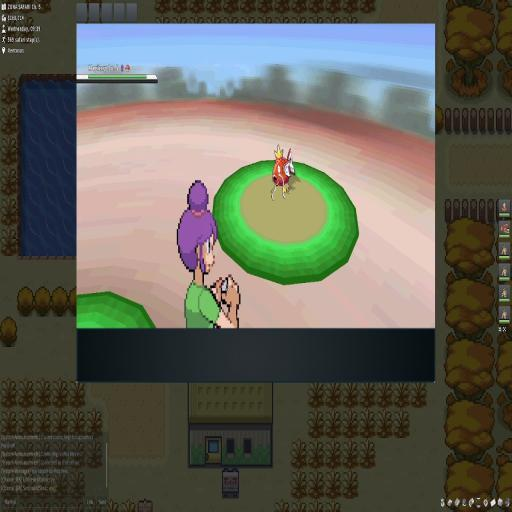MAGIKARP: (269, 146, 296, 201)
